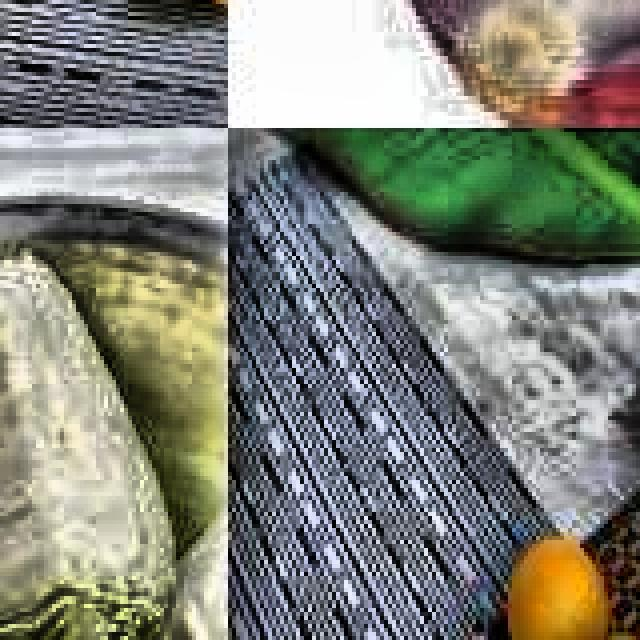cabbage: (0, 248, 180, 640), (112, 404, 228, 640)
